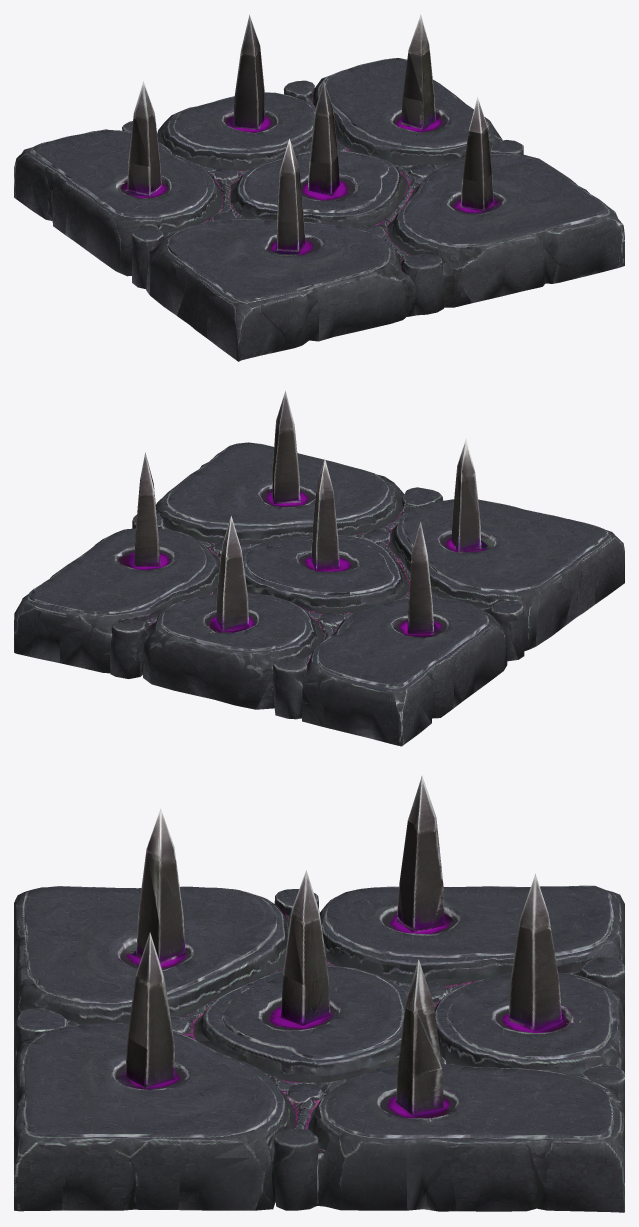
File: spike_sprung.glb
The picture shows the model from 3 angles, top to bottom: view 1: azimuth 30°, elevation 25°; view 2: azimuth 150°, elevation 25°; view 3: azimuth 270°, elevation 25°; orthographic projection. The views are drawn at different scales.
Bounding box in the file's own units: 1 × 0.3926 × 1.
1 material, 1 textured.
